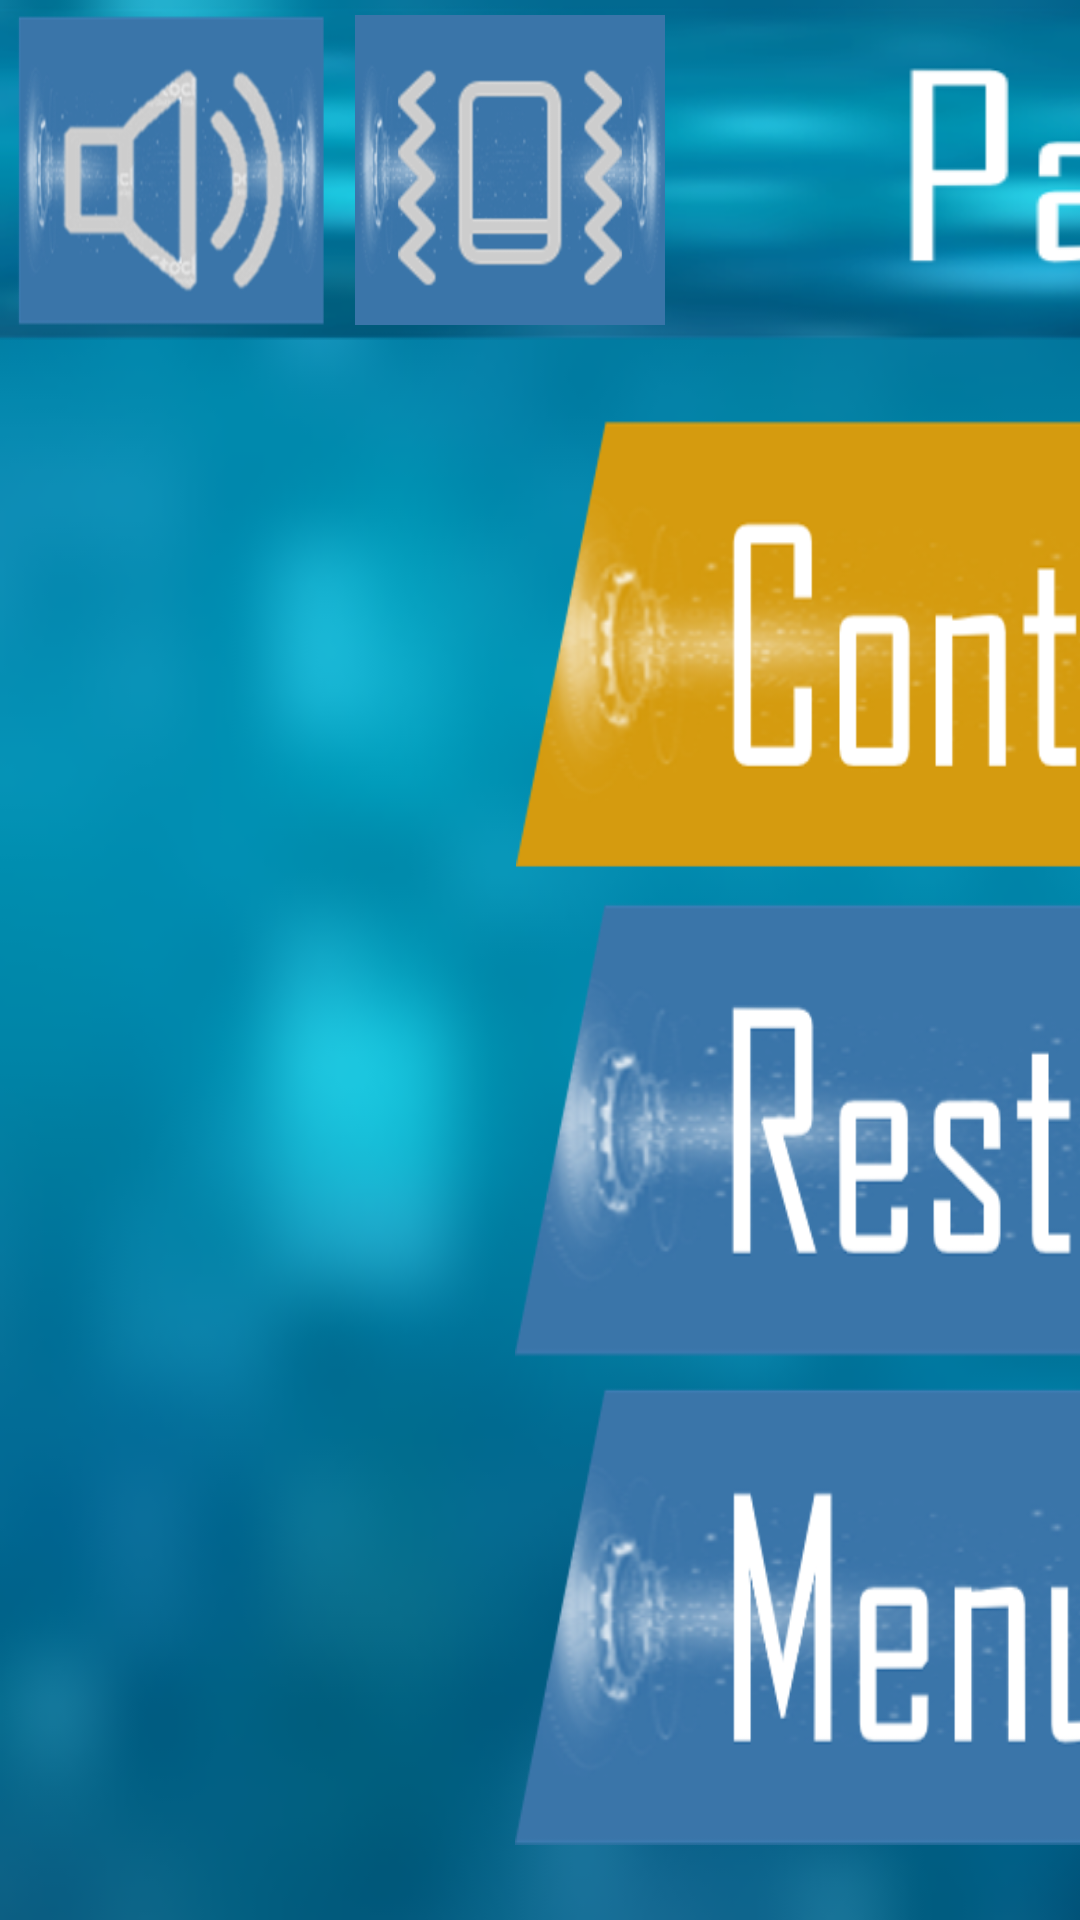

Point at icon controls on the screen. Image size 1080w x 1920h, points as (x,y).
psound: (170,170)
pvibrate: (510,170)
